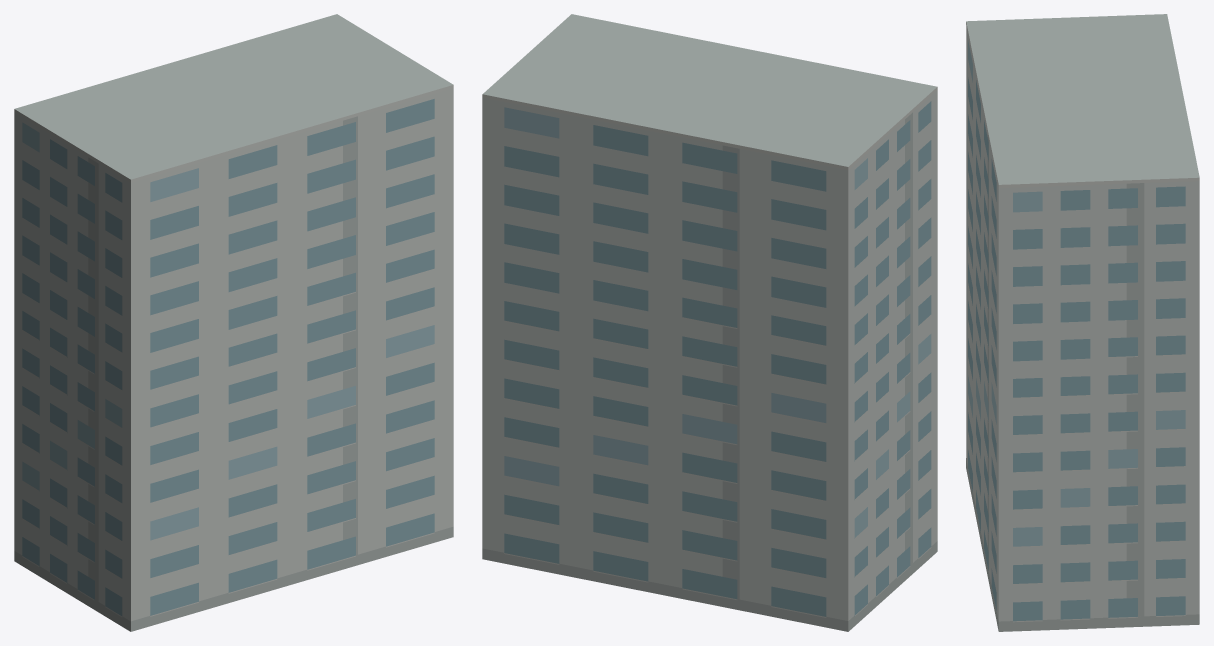
File: residential-7ab04178-b033-43f9-a433-5bb89fc4e733.glb
The picture shows the model from 3 angles, left to right: view 1: azimuth 30°, elevation 25°; view 2: azimuth 150°, elevation 25°; view 3: azimuth 270°, elevation 25°; orthographic projection. The views are drawn at different scales.
Visible parts, largest first — view 1: residential-7ab04178-b033-43f9-a433-5bb89fc4e733.tmp; view 2: residential-7ab04178-b033-43f9-a433-5bb89fc4e733.tmp; view 3: residential-7ab04178-b033-43f9-a433-5bb89fc4e733.tmp.
Boxes of the visible parts, x1=… form: residential-7ab04178-b033-43f9-a433-5bb89fc4e733.tmp: x1=14, y1=14, x2=453, y2=631; residential-7ab04178-b033-43f9-a433-5bb89fc4e733.tmp: x1=482, y1=14, x2=937, y2=631; residential-7ab04178-b033-43f9-a433-5bb89fc4e733.tmp: x1=966, y1=14, x2=1199, y2=631.
Size of the model in its own units: 27.07 by 33 by 15.64.
